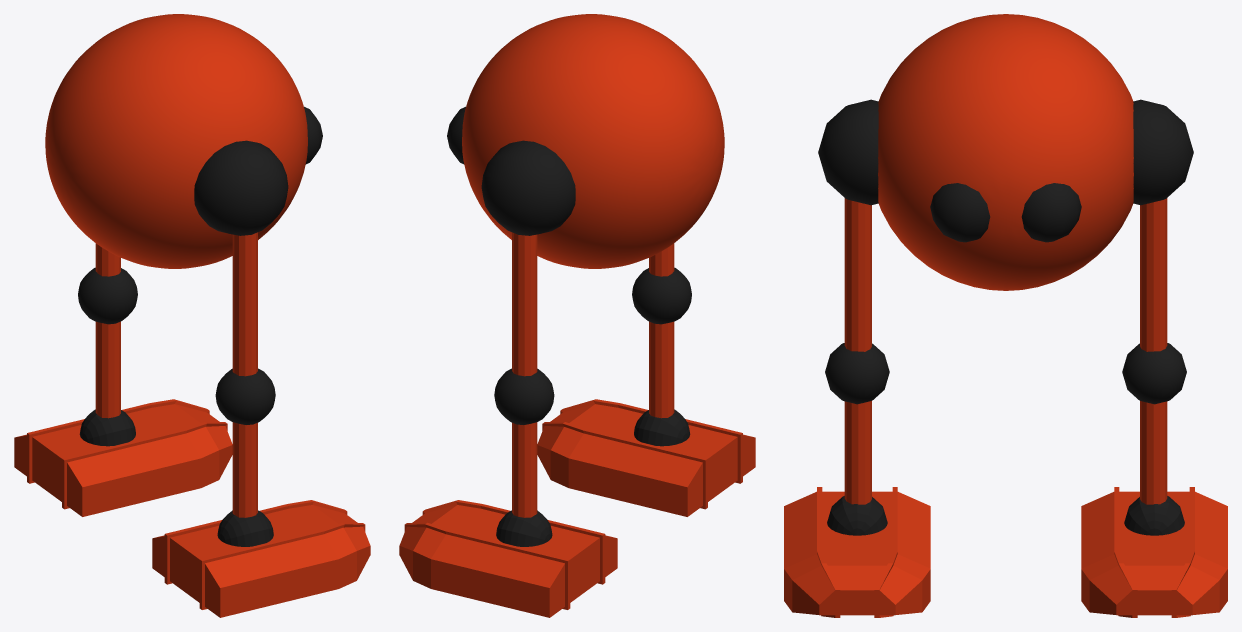
Rendered from robot.fbx.
The picture shows the model from 3 angles, left to right: view 1: azimuth 30°, elevation 25°; view 2: azimuth 150°, elevation 25°; view 3: azimuth 270°, elevation 25°; orthographic projection. The views are drawn at different scales.
Parts seen in each view (by area): view 1: Sphere.001, Cube.010, Sphere.002, Sphere.004, Cylinder.008, Cylinder.006, Sphere.005, Sphere.006; view 2: Sphere.001, Cube.010, Sphere.002, Sphere.004, Cylinder.008, Cylinder.006, Sphere.005, Sphere.006; view 3: Sphere.001, Cube.010, Sphere.002, Cylinder.006, Sphere.004, Cylinder.008, Sphere.006, Sphere.005.
Boxes of the visible parts, x1=… form: Sphere.001: x1=45, y1=14, x2=307, y2=268; Cube.010: x1=14, y1=399, x2=370, y2=617; Sphere.002: x1=194, y1=140, x2=288, y2=235; Sphere.004: x1=78, y1=267, x2=275, y2=424; Cylinder.008: x1=95, y1=321, x2=257, y2=517; Cylinder.006: x1=95, y1=232, x2=257, y2=376; Sphere.005: x1=79, y1=409, x2=273, y2=546; Sphere.006: x1=304, y1=106, x2=322, y2=164; Sphere.001: x1=462, y1=14, x2=724, y2=268; Cube.010: x1=399, y1=399, x2=755, y2=617; Sphere.002: x1=481, y1=140, x2=575, y2=235; Sphere.004: x1=494, y1=267, x2=691, y2=424; Cylinder.008: x1=512, y1=321, x2=674, y2=517; Cylinder.006: x1=512, y1=232, x2=674, y2=376; Sphere.005: x1=496, y1=409, x2=690, y2=546; Sphere.006: x1=447, y1=106, x2=465, y2=164; Sphere.001: x1=878, y1=14, x2=1133, y2=290; Cube.010: x1=784, y1=487, x2=1227, y2=617; Sphere.002: x1=818, y1=99, x2=1193, y2=205; Cylinder.006: x1=844, y1=198, x2=1167, y2=351; Sphere.004: x1=825, y1=343, x2=1186, y2=404; Cylinder.008: x1=844, y1=401, x2=1167, y2=504; Sphere.006: x1=930, y1=183, x2=1081, y2=242; Sphere.005: x1=827, y1=496, x2=1184, y2=535.
Size of the model in its own units: 533 by 1077 by 795.
